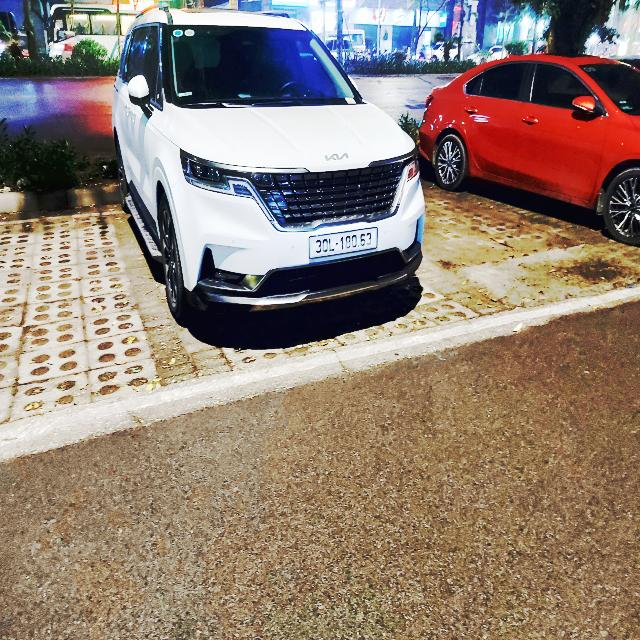license_plate: (309, 227, 379, 261)
